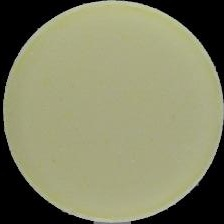76237-108: (0, 0, 224, 224)
